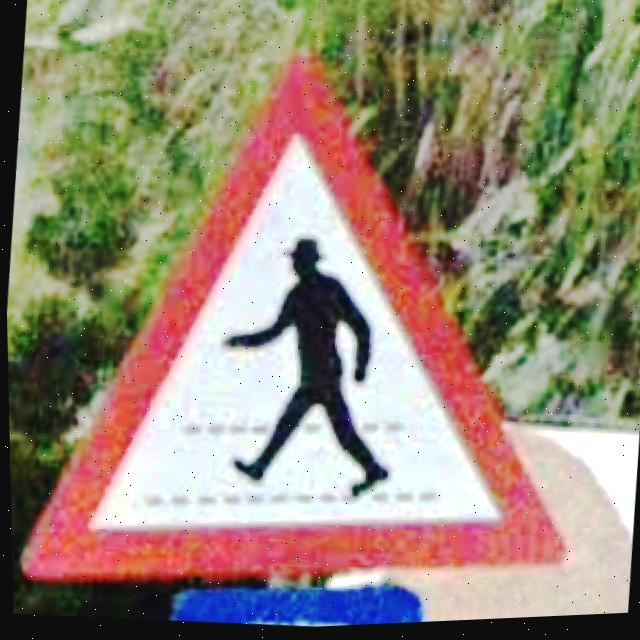pedestriancross: (18, 60, 565, 579)
